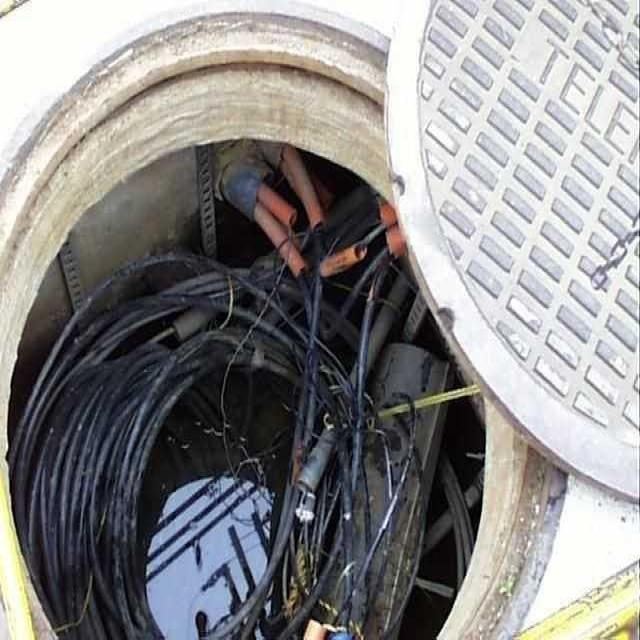manhole: (0, 12, 569, 640)
